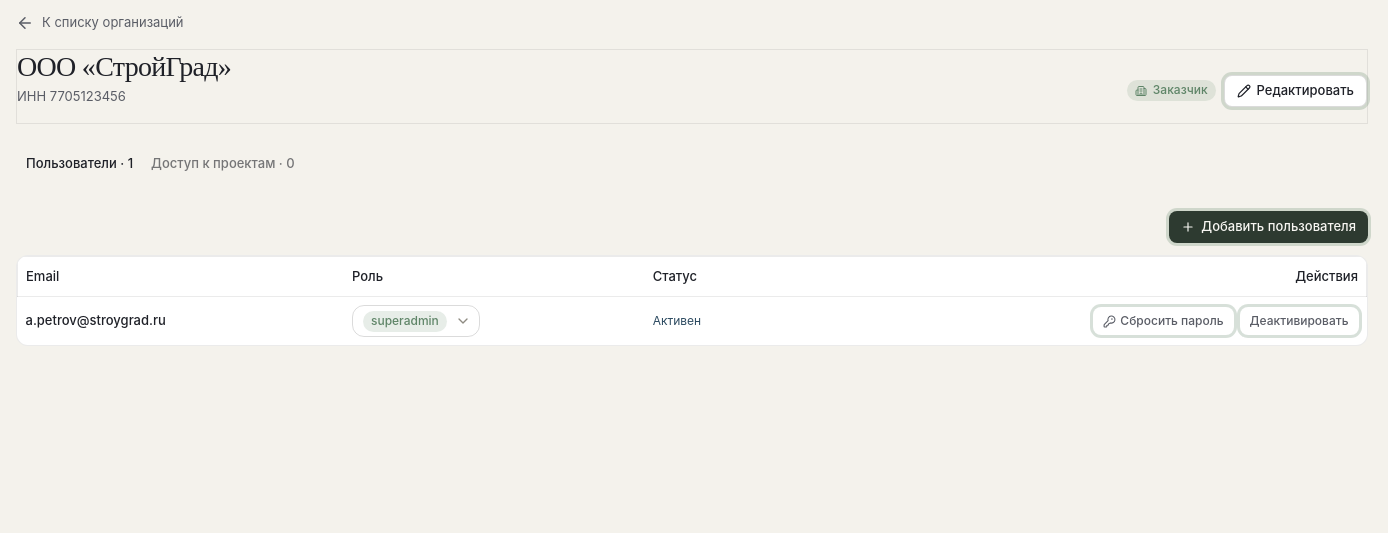
Test: AdminOrgDetail — вкладки (shadcn Tabs) › переключение на «Доступ к проектам» показывает форму выдачи доступа
This screenshot has width=1388, height=533.
Expected: the heading "ООО «СтройГрад»" is shown, [17,50,231,83]
Expected: the button "Добавить пользователя" is shown, [1169,211,1368,243]
Click the tab "Доступ к проектам · 0".
click(223, 163)  # box [144,151,302,176]
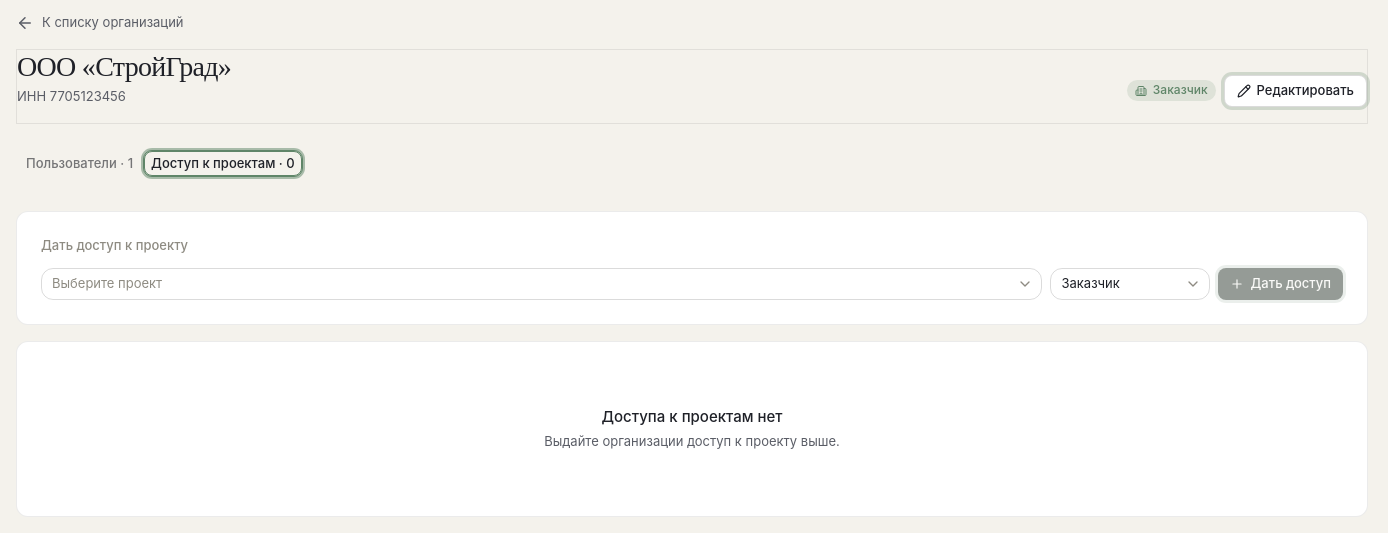
Expected: the text "Дать доступ к проекту" is shown, [41,237,188,253]
